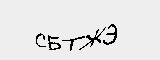Б: (45, 34, 62, 51)
Ж: (82, 27, 105, 51)
С: (32, 33, 46, 49)
Т: (62, 34, 85, 51)
Э: (103, 22, 121, 46)
